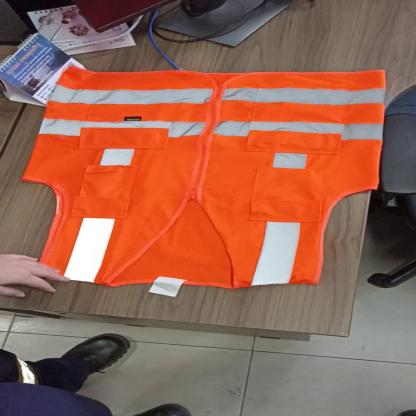colete: (20, 62, 391, 292)
